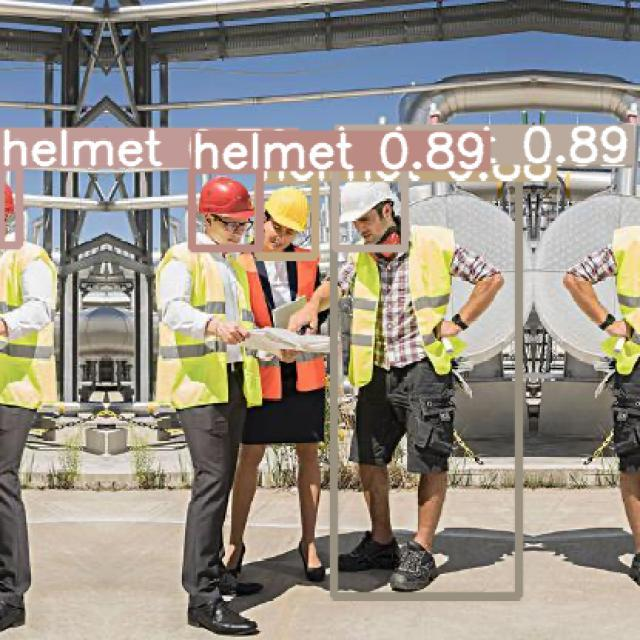Helmet: (197, 175, 255, 222), (337, 180, 398, 223), (263, 186, 309, 233)
